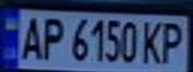0: (118, 18, 142, 64)
1: (87, 16, 109, 62)
5: (103, 17, 124, 63)
6: (66, 15, 90, 62)
A: (15, 14, 45, 61)
K: (139, 18, 166, 65)
P: (157, 19, 190, 64), (36, 14, 66, 61)
